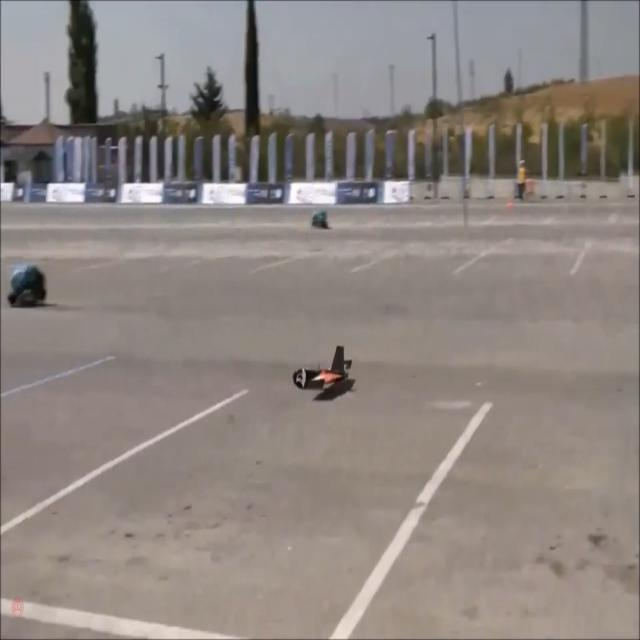iha: (324, 343, 328, 405)
